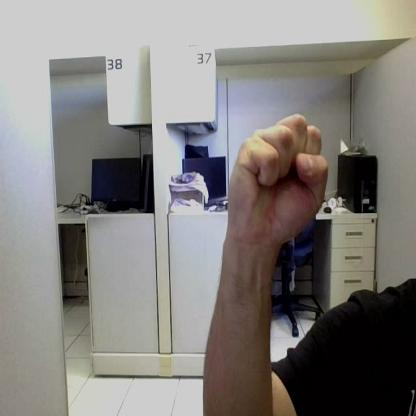S: (228, 114, 327, 240)
